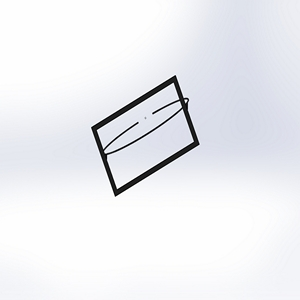circle: (89, 73, 200, 196)
